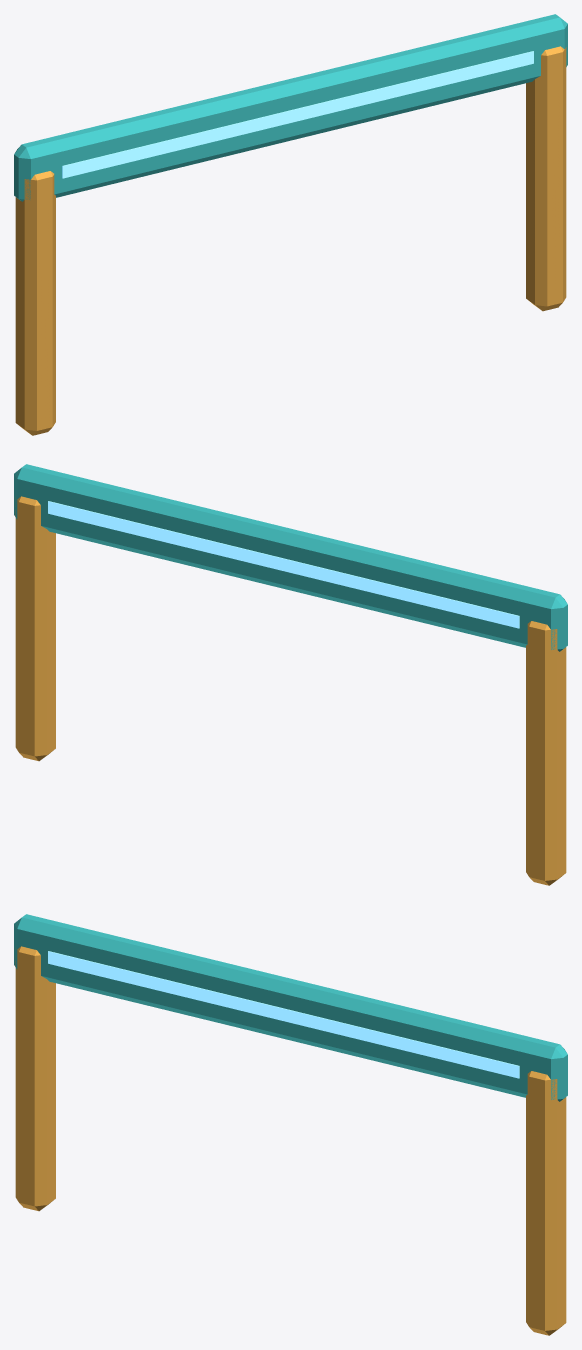
Rendered from checkpoint_gate.glb.
The picture shows the model from 3 angles, top to bottom: view 1: azimuth 30°, elevation 25°; view 2: azimuth 150°, elevation 25°; view 3: azimuth 330°, elevation 25°; orthographic projection.
Parts seen in each view (by area): view 1: checkpoint_gate; view 2: checkpoint_gate; view 3: checkpoint_gate.
Part boxes in pixels (x1=…): checkpoint_gate: x1=14, y1=14, x2=567, y2=435; checkpoint_gate: x1=14, y1=464, x2=567, y2=885; checkpoint_gate: x1=14, y1=914, x2=567, y2=1335.
Bounding box in the file's own units: 14 × 7 × 0.8.
